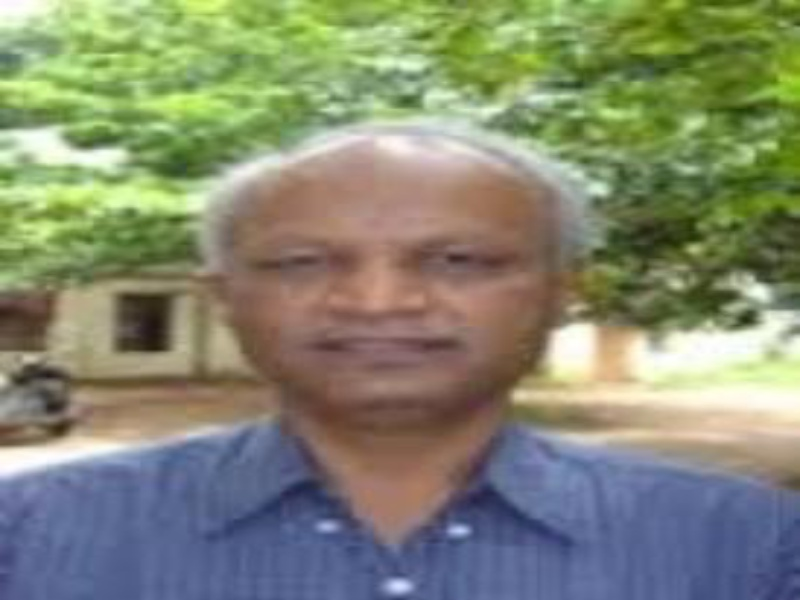TsisyArotava: (179, 92, 612, 468)
